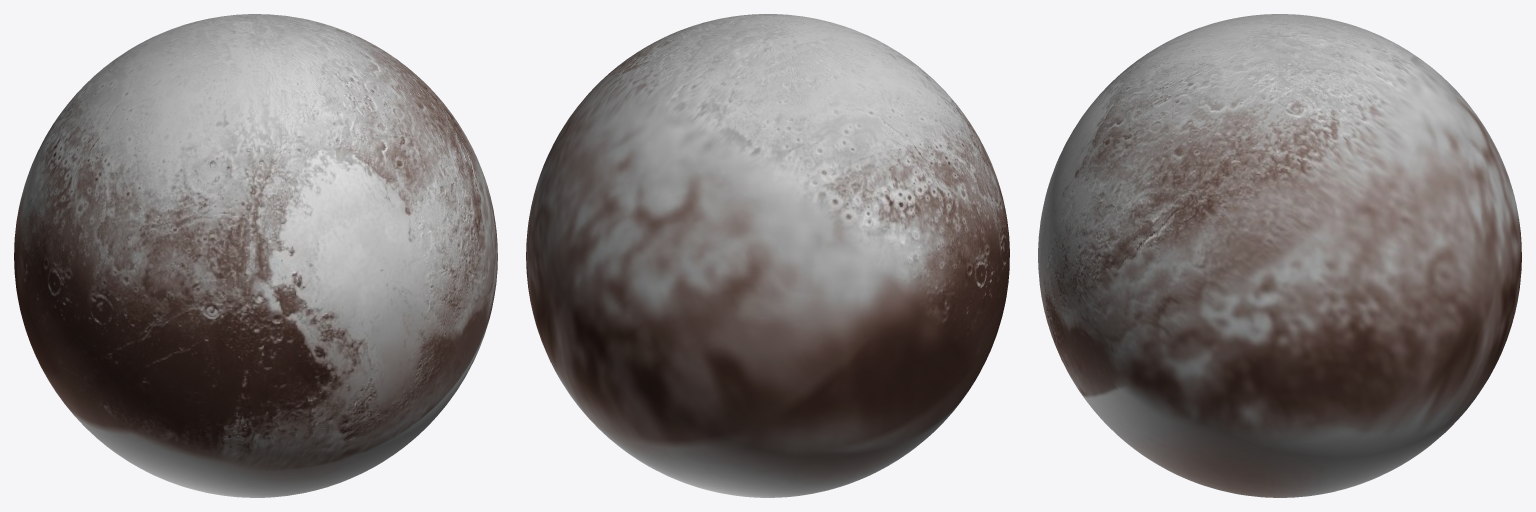
File: pluto.glb
The picture shows the model from 3 angles, left to right: view 1: azimuth 30°, elevation 25°; view 2: azimuth 150°, elevation 25°; view 3: azimuth 270°, elevation 25°; orthographic projection.
Visible parts, largest first — view 1: Pluto_surface_cylindrically_mapped_sphere; view 2: Pluto_surface_cylindrically_mapped_sphere; view 3: Pluto_surface_cylindrically_mapped_sphere.
Part boxes in pixels (x1,y1,x2,y2): Pluto_surface_cylindrically_mapped_sphere: [14, 14, 497, 497]; Pluto_surface_cylindrically_mapped_sphere: [526, 14, 1009, 497]; Pluto_surface_cylindrically_mapped_sphere: [1038, 14, 1521, 497].
Bounding box in the file's own units: 2 × 2 × 2.
Materials: 1 (1 with a texture image).
